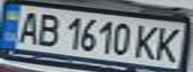0: (112, 20, 136, 56)
1: (60, 15, 84, 51), (96, 19, 115, 54)
6: (78, 16, 100, 52)
A: (9, 8, 45, 44)
B: (30, 11, 63, 47)
K: (151, 25, 187, 63), (130, 22, 163, 61)
